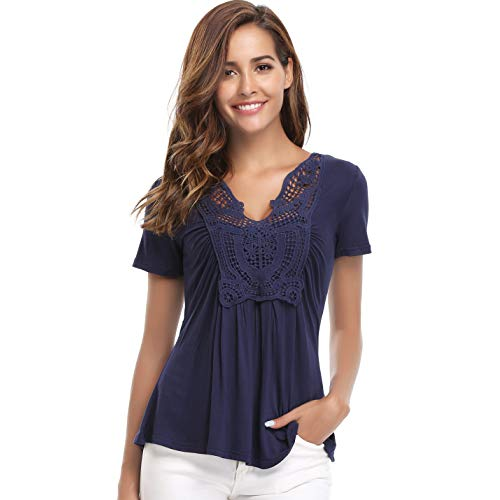C_short blouse: (133, 152, 371, 469)
